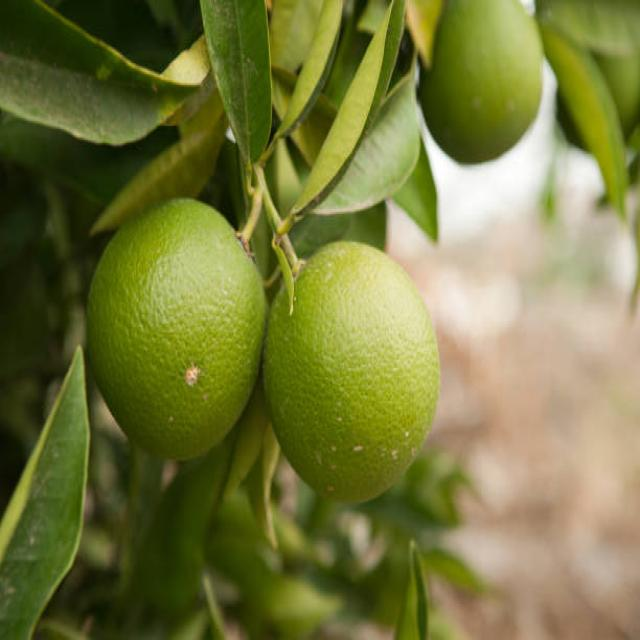Unripe: (88, 194, 267, 461), (269, 240, 438, 504)
